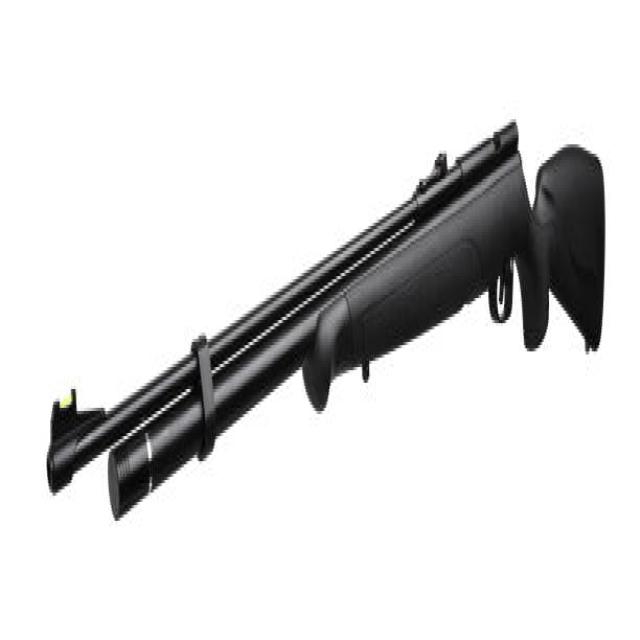rifle: (37, 101, 611, 546)
